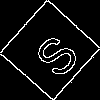S: (25, 25, 83, 81)
